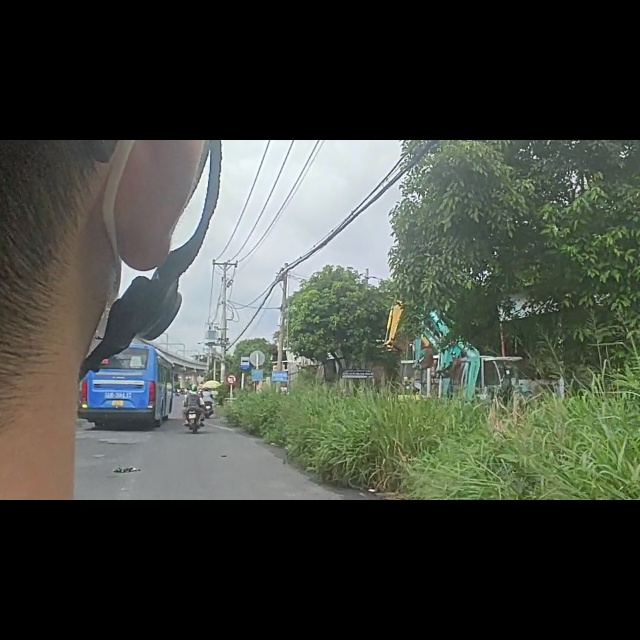bien_cam: (240, 383, 251, 411), (227, 416, 237, 435)
